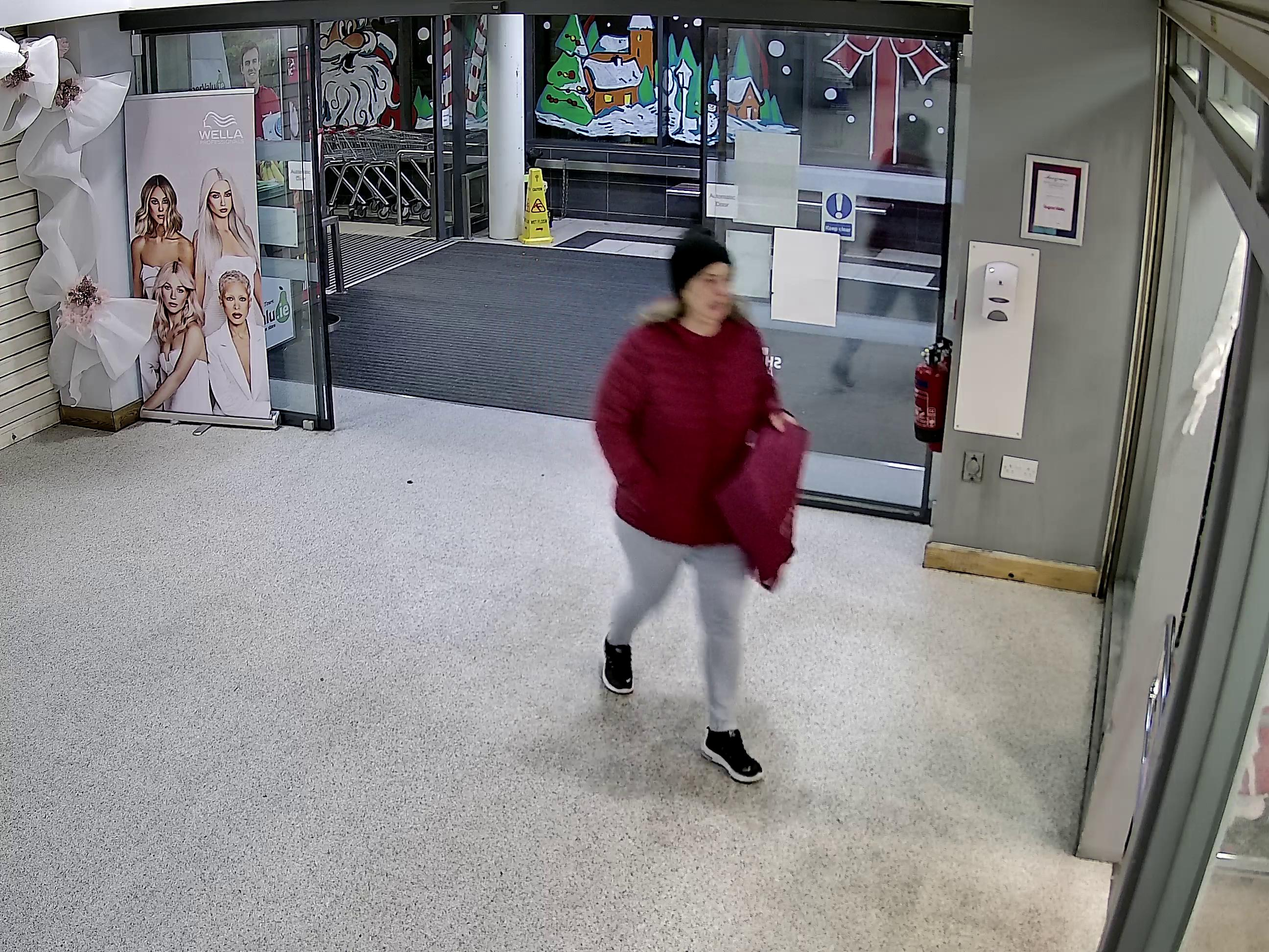empty-shopping-bags: (711, 412, 811, 589)
person: (593, 219, 794, 779)
person-with-empty-shopping-bag-s-: (593, 219, 812, 783)
